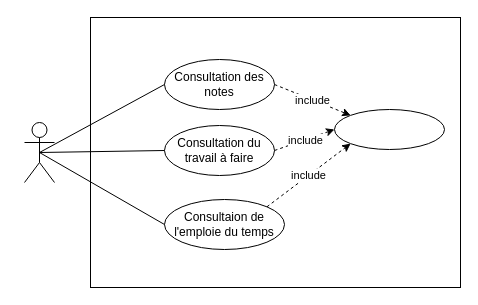
Image size: 478x305. Some labels were removed from this diagram. Here are the shapes that lost their labels. From the top down, the centre of each, then its label:
At [389,129]: "Se connecter".
At [39,152]: "Etudiant".
